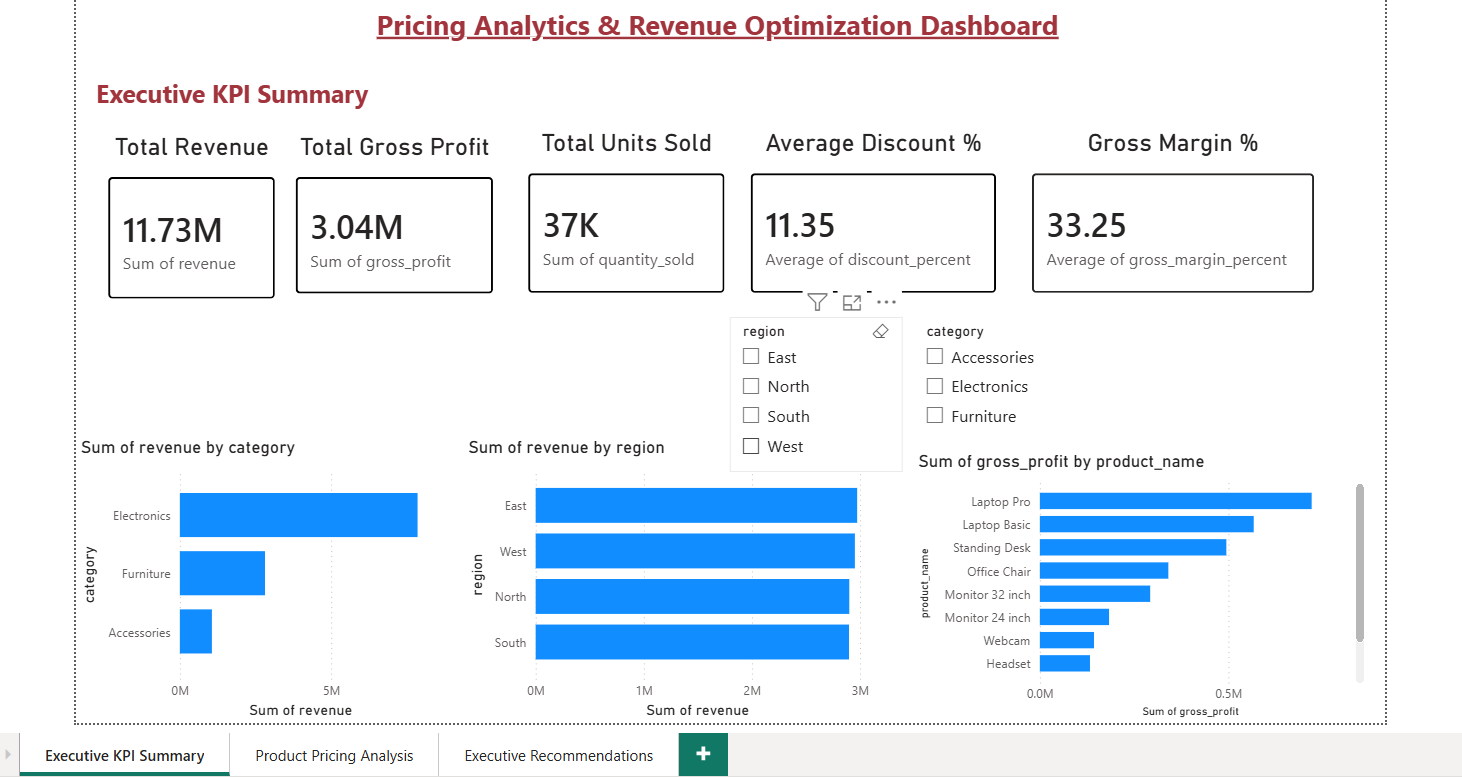

This screenshot's page, from the dashboard's own definition file:
{"tool":"powerbi","page":{"name":"Executive KPI Summary","canvas":[1280,720],"ordinal":0},"visuals":[{"type":"cardVisual","title":"Total Revenue","fields":{"Data":["Sum(public sales_pricing.revenue)"]},"box":[15.1,141.3,197.6,181.1],"z":0},{"type":"cardVisual","title":"Total Gross Profit","fields":{"Data":["Sum(public sales_pricing.gross_profit)"]},"box":[197.6,141.3,227.8,175.6],"z":1000},{"type":"cardVisual","title":"Total Units Sold","fields":{"Data":["Sum(public sales_pricing.quantity_sold)"]},"box":[425.4,138.6,226.4,178.4],"z":2000},{"type":"clusteredBarChart","fields":{"Category":["public sales_pricing.category"],"Y":["Sum(public sales_pricing.revenue)"]},"box":[0,440.5,352.7,279.9],"z":3000},{"type":"clusteredBarChart","fields":{"Category":["public sales_pricing.region"],"Y":["Sum(public sales_pricing.revenue)"]},"box":[378.7,440.5,402.1,279.9],"z":4000},{"type":"barChart","fields":{"Category":["public sales_pricing.product_name"],"Y":["Sum(public sales_pricing.gross_profit)"]},"box":[819.2,454.2,446,266.2],"z":5000},{"type":"textbox","box":[118,13.7,1018.2,54.9],"z":6000},{"type":"textbox","box":[15.1,83.7,741,57.6],"z":7000},{"type":"cardVisual","title":"Average Discount %","fields":{"Data":["Avg(public sales_pricing.discount_percent)"]},"box":[643.6,138.6,274.4,178.4],"z":8000},{"type":"cardVisual","title":"Gross Margin %","fields":{"Data":["Avg(public sales_pricing.gross_margin_percent)"]},"box":[918,138.6,310.1,178.4],"z":9000},{"type":"slicer","fields":{"Values":["public sales_pricing.category"]},"box":[819.2,322.5,130.4,131.7],"z":10000},{"type":"slicer","fields":{"Values":["public sales_pricing.region"]},"box":[639.5,322.5,168.8,152.3],"z":11000}]}

Visuals, with their boxes on the page's 1280x720 design canvas (x1, y1, x2, y2). These are canvas units, not pixel positions in the 1462x777 screenshot, which may show the page scaled, cropped or inside an application window:
"Total Revenue" cardVisual: <box>15,141,213,322</box>
"Total Gross Profit" cardVisual: <box>198,141,425,317</box>
"Total Units Sold" cardVisual: <box>425,139,652,317</box>
clusteredBarChart - public sales_pricing.category x Sum(public sales_pricing.revenue): <box>0,440,353,720</box>
clusteredBarChart - public sales_pricing.region x Sum(public sales_pricing.revenue): <box>379,440,781,720</box>
barChart - public sales_pricing.product_name x Sum(public sales_pricing.gross_profit): <box>819,454,1265,720</box>
textbox: <box>118,14,1136,69</box>
textbox: <box>15,84,756,141</box>
"Average Discount %" cardVisual: <box>644,139,918,317</box>
"Gross Margin %" cardVisual: <box>918,139,1228,317</box>
slicer - public sales_pricing.category: <box>819,322,950,454</box>
slicer - public sales_pricing.region: <box>640,322,808,475</box>
